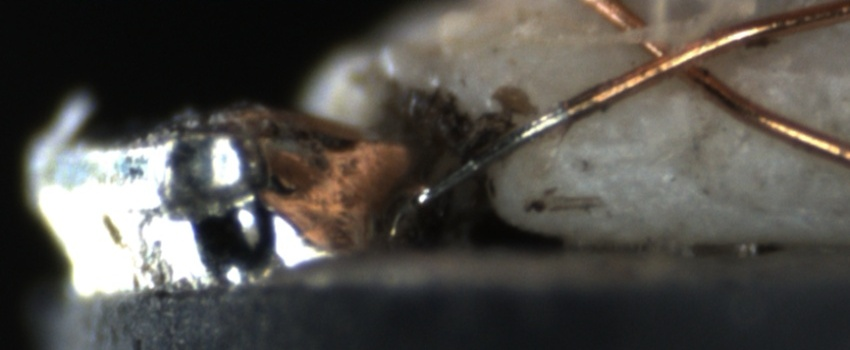CL: (628, 28, 720, 91)
DL: (694, 41, 845, 105), (527, 111, 673, 175)
TS: (412, 106, 567, 207)
